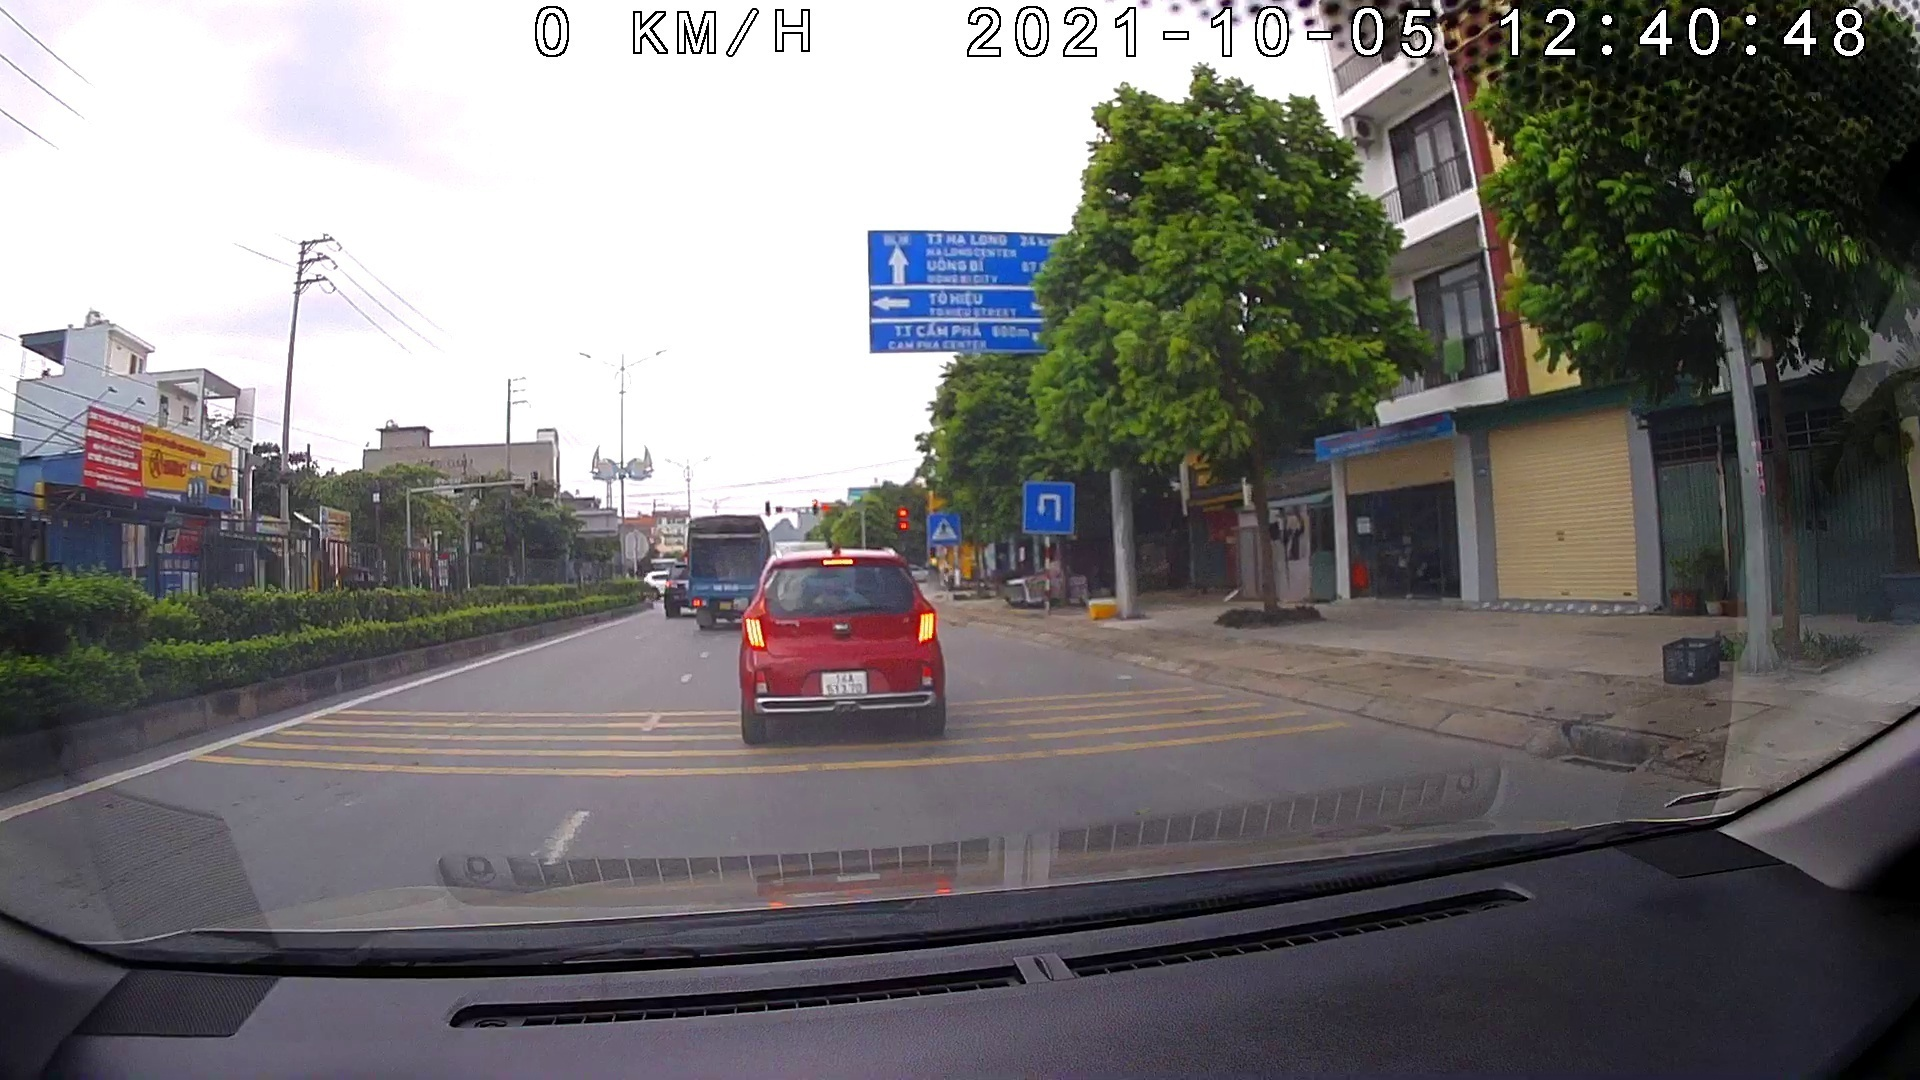Bien khac: (865, 227, 1064, 355), (1025, 477, 1075, 541)
Nguoi di bo: (922, 510, 961, 545)
